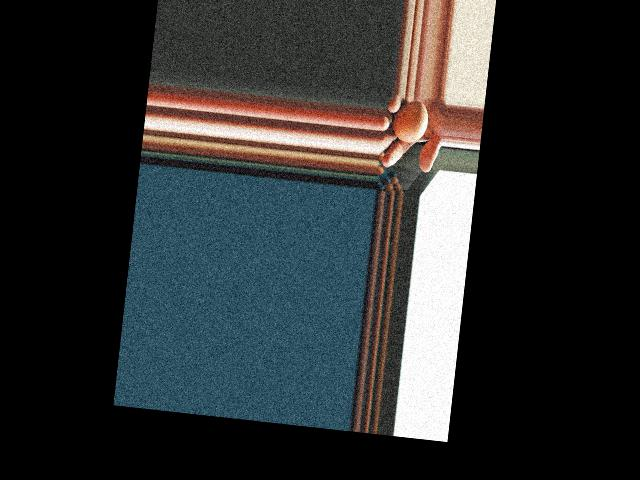egg: (390, 97, 429, 144)
